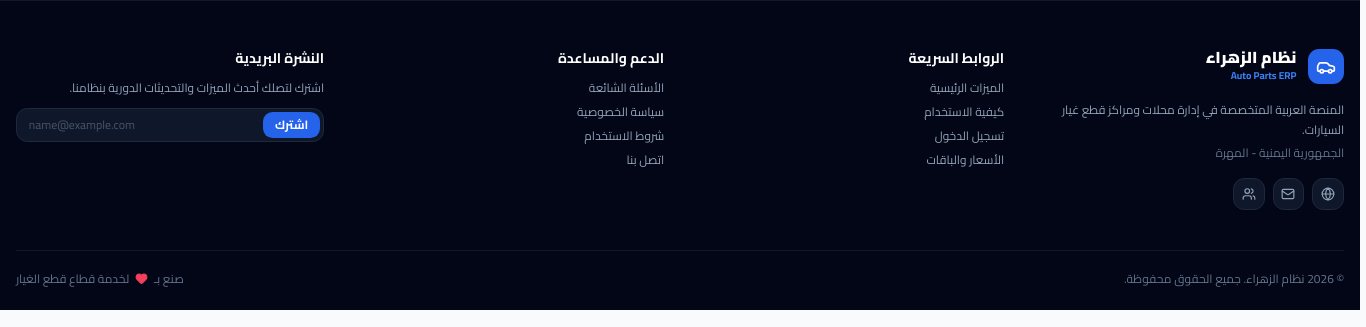
it: LandingFooter › يعرض رسالة نجاح عند الاشتراك بريداً صالحاً
This screenshot has width=1366, height=327.
Step 1. Type "test@example.com" into the field named "البريد الإلكتروني للنشرة البريدية" → [170, 125], box [16,108,324,142]
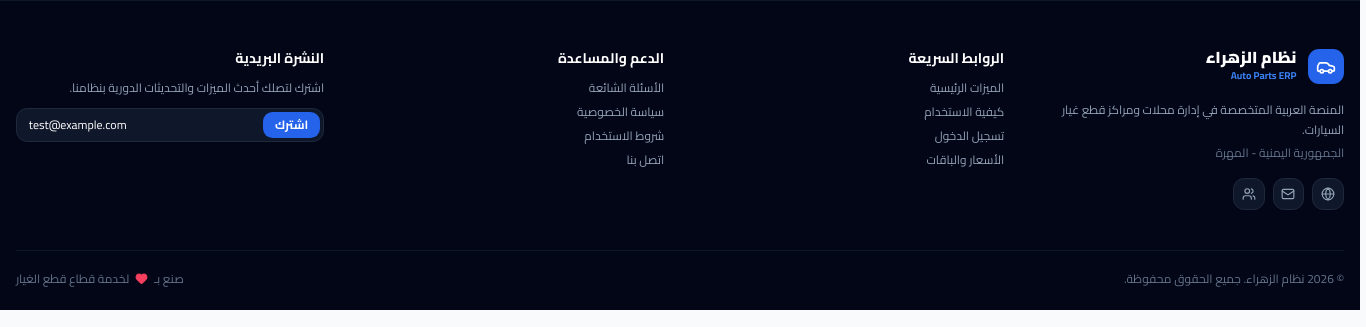
Step 2. Click the button with aria-label "الاشتراك في النشرة البريدية" → [292, 125], box [263,112,320,138]
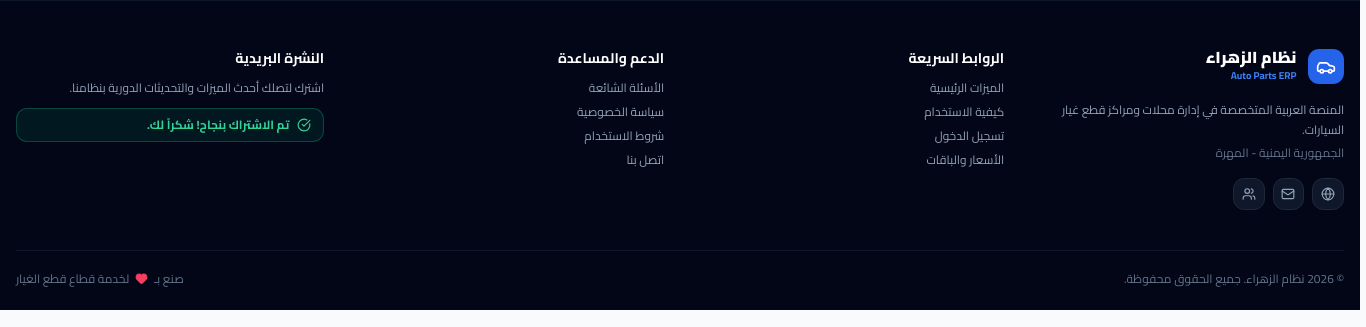
Expected: the text "تم الاشتراك بنجاح! شكراً لك." is shown, [16,108,324,142]
